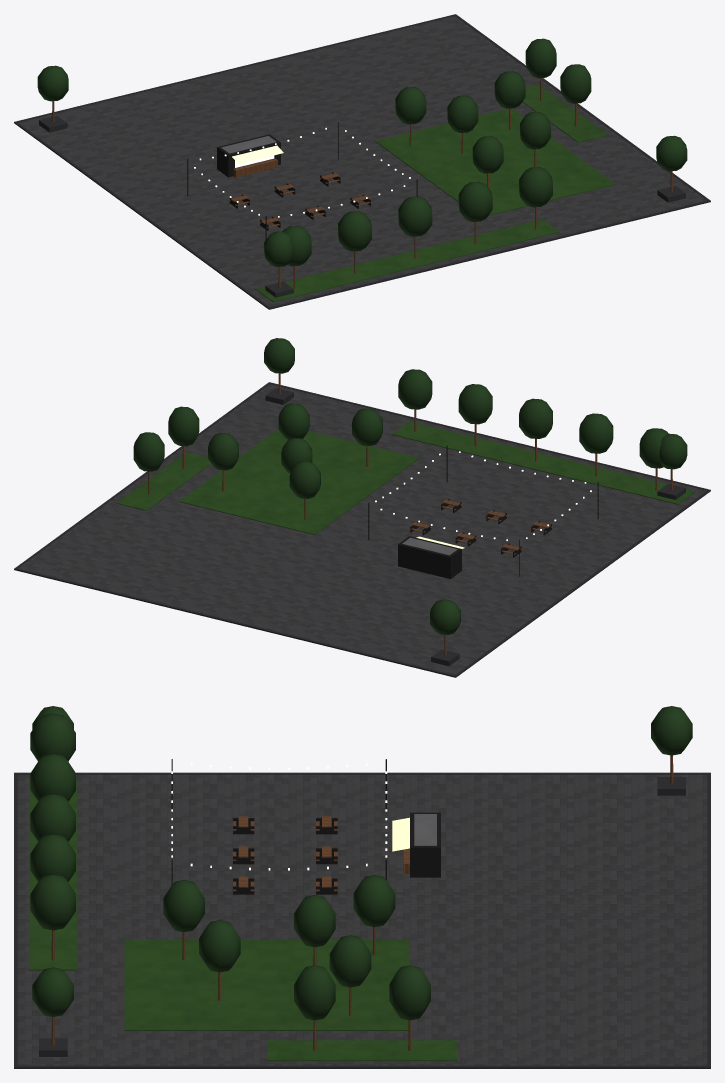
Rendered from fans_L1.glb.
The picture shows the model from 3 angles, top to bottom: view 1: azimuth 30°, elevation 25°; view 2: azimuth 150°, elevation 25°; view 3: azimuth 270°, elevation 25°; orthographic projection. The views are drawn at different scales.
Visible parts, largest first — view 1: paving_fans_L1, lawn_fans_L1, foliage_fans_L1, concrete_dark_fans_L1, wood_fans_L1, black_metal_fans_L1; view 2: paving_fans_L1, lawn_fans_L1, foliage_fans_L1, concrete_dark_fans_L1, black_metal_fans_L1, wood_fans_L1; view 3: paving_fans_L1, lawn_fans_L1, foliage_fans_L1, concrete_dark_fans_L1, black_metal_fans_L1, wood_fans_L1, roofing_fans_L1, emissive_led_fans_L1.
Part boxes in pixels (x1,y1,x2,y2): paving_fans_L1: [18, 16, 706, 306]; lawn_fans_L1: [256, 84, 615, 302]; foliage_fans_L1: [37, 38, 687, 266]; concrete_dark_fans_L1: [14, 14, 710, 309]; wood_fans_L1: [52, 78, 672, 288]; black_metal_fans_L1: [187, 122, 417, 239]; paving_fans_L1: [18, 384, 706, 674]; lawn_fans_L1: [116, 421, 695, 534]; foliage_fans_L1: [133, 338, 687, 634]; concrete_dark_fans_L1: [14, 382, 710, 677]; black_metal_fans_L1: [368, 445, 598, 578]; wood_fans_L1: [148, 373, 672, 655]; paving_fans_L1: [17, 774, 707, 1065]; lawn_fans_L1: [29, 778, 457, 1060]; foliage_fans_L1: [30, 706, 692, 1020]; concrete_dark_fans_L1: [14, 772, 710, 1068]; black_metal_fans_L1: [171, 759, 440, 894]; wood_fans_L1: [51, 755, 673, 1050]; roofing_fans_L1: [414, 814, 436, 845]; emissive_led_fans_L1: [392, 817, 409, 851].
Bounding box in the file's own units: 58.6 × 8 × 58.6.
Materials: 9 (4 with a texture image).
